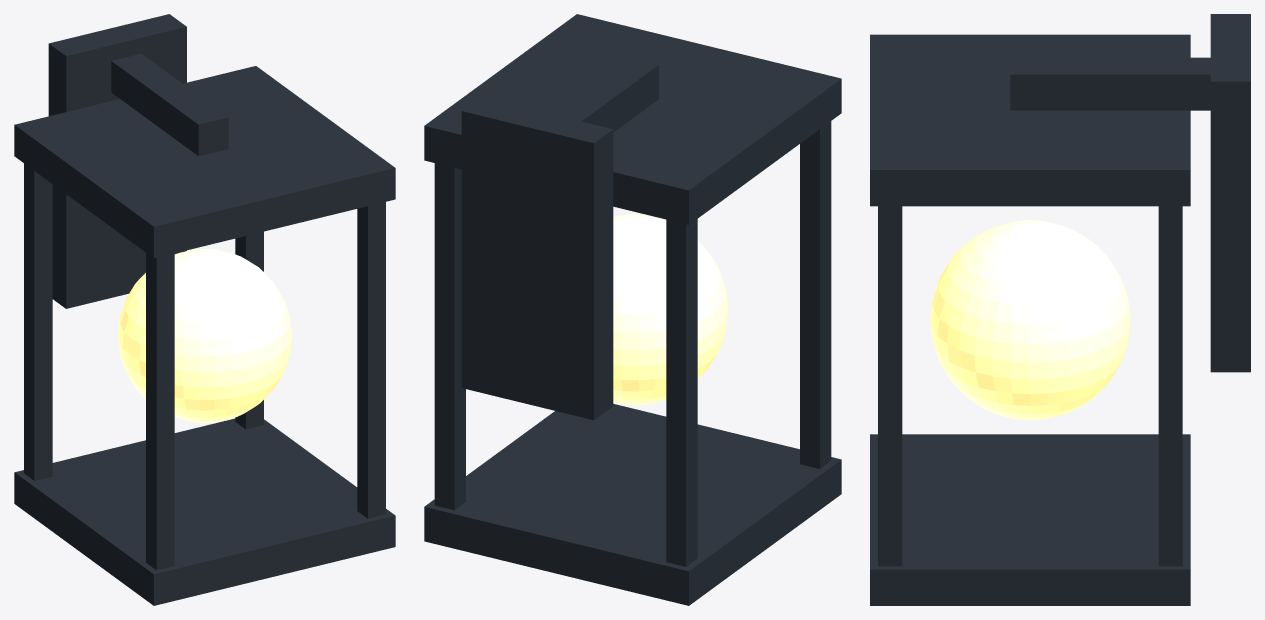
File: 13_wall_lantern.glb
3 views of the same model, side by side, from view 1: azimuth 30°, elevation 25°; view 2: azimuth 150°, elevation 25°; view 3: azimuth 270°, elevation 25° (orthographic). The views are drawn at different scales.
Bounding box in the file's own units: 0.16 × 0.27 × 0.19.
